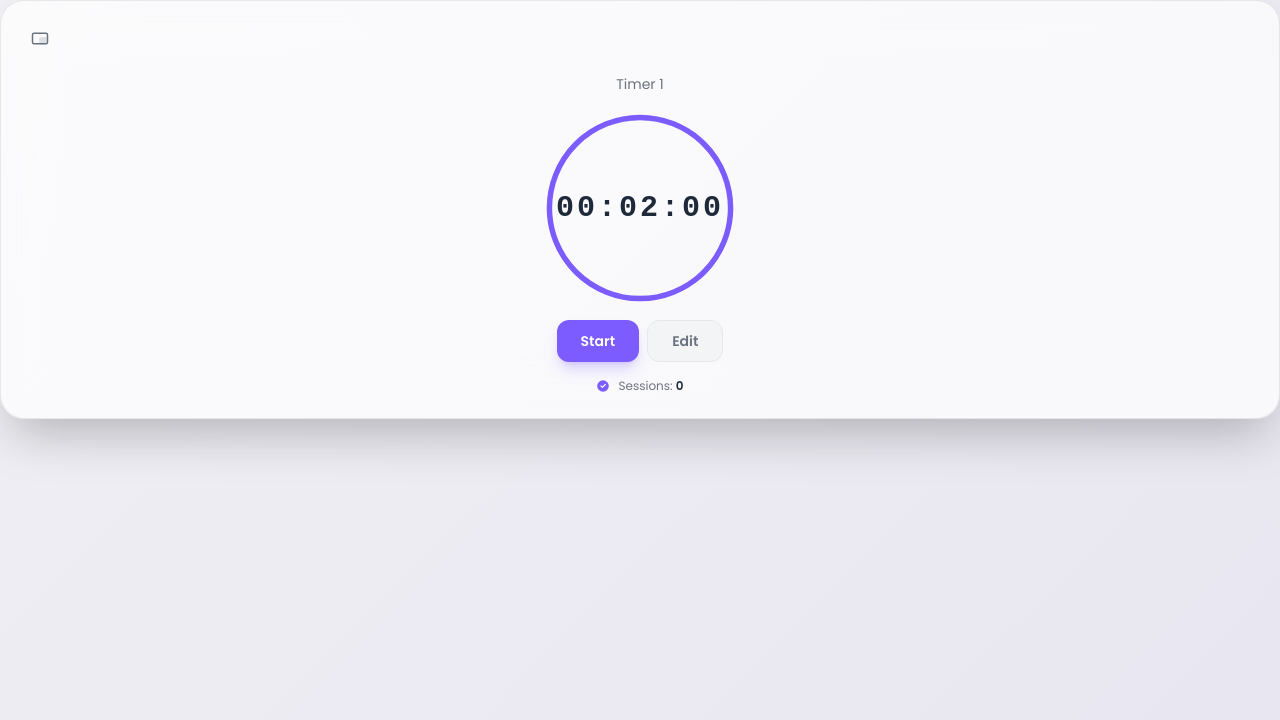
Test: TimerCard › inline time editing › should wrap minutes from 00 to 59 on ArrowDown
Click the button named "Click to edit time" at (640, 208), box [556,190,724,226]
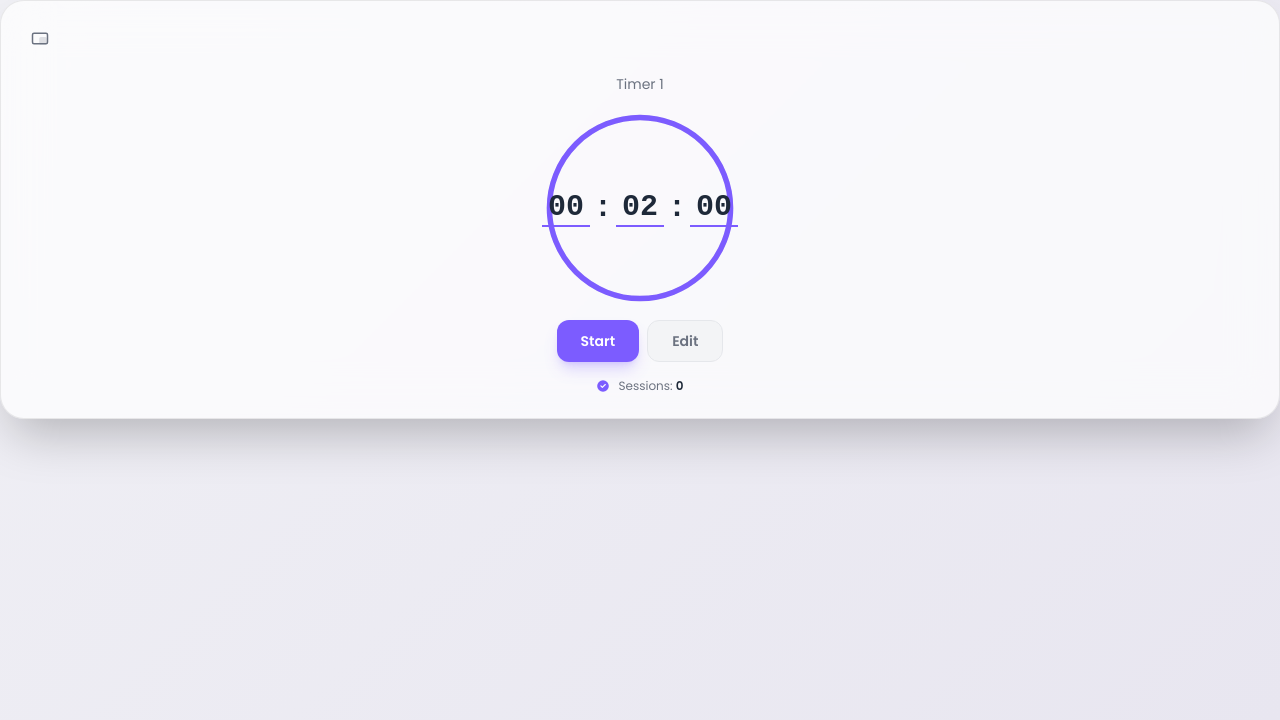
Replace the text in the field named "edit minutes" with "00" at (640, 208), box [616,189,664,227]
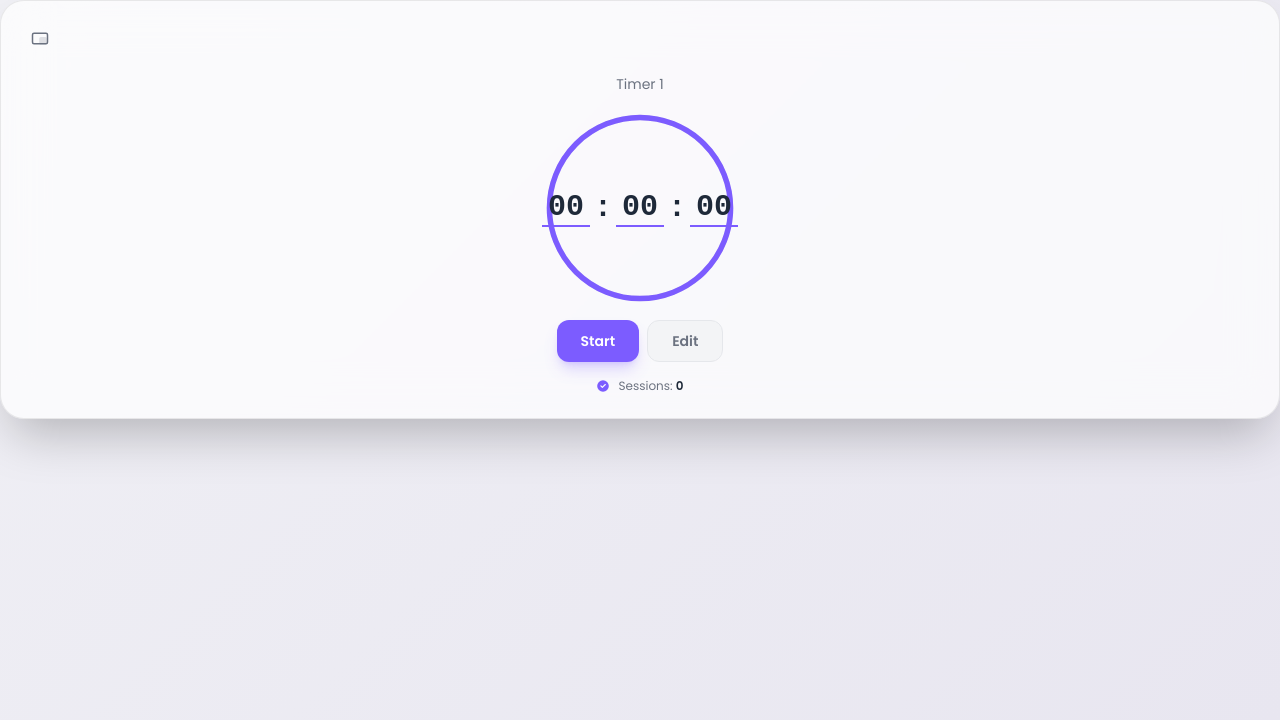
Press Arrowdown
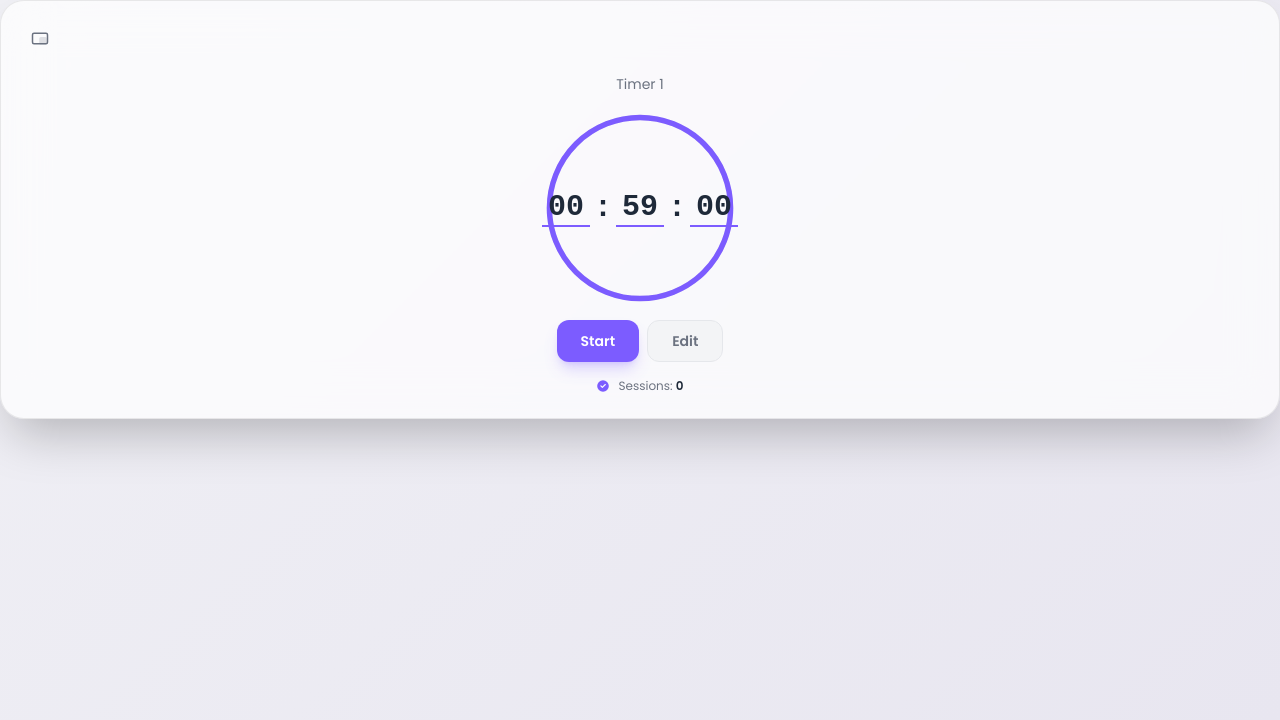
Expected: the field named "edit minutes" holds "59", [616,189,664,227]
